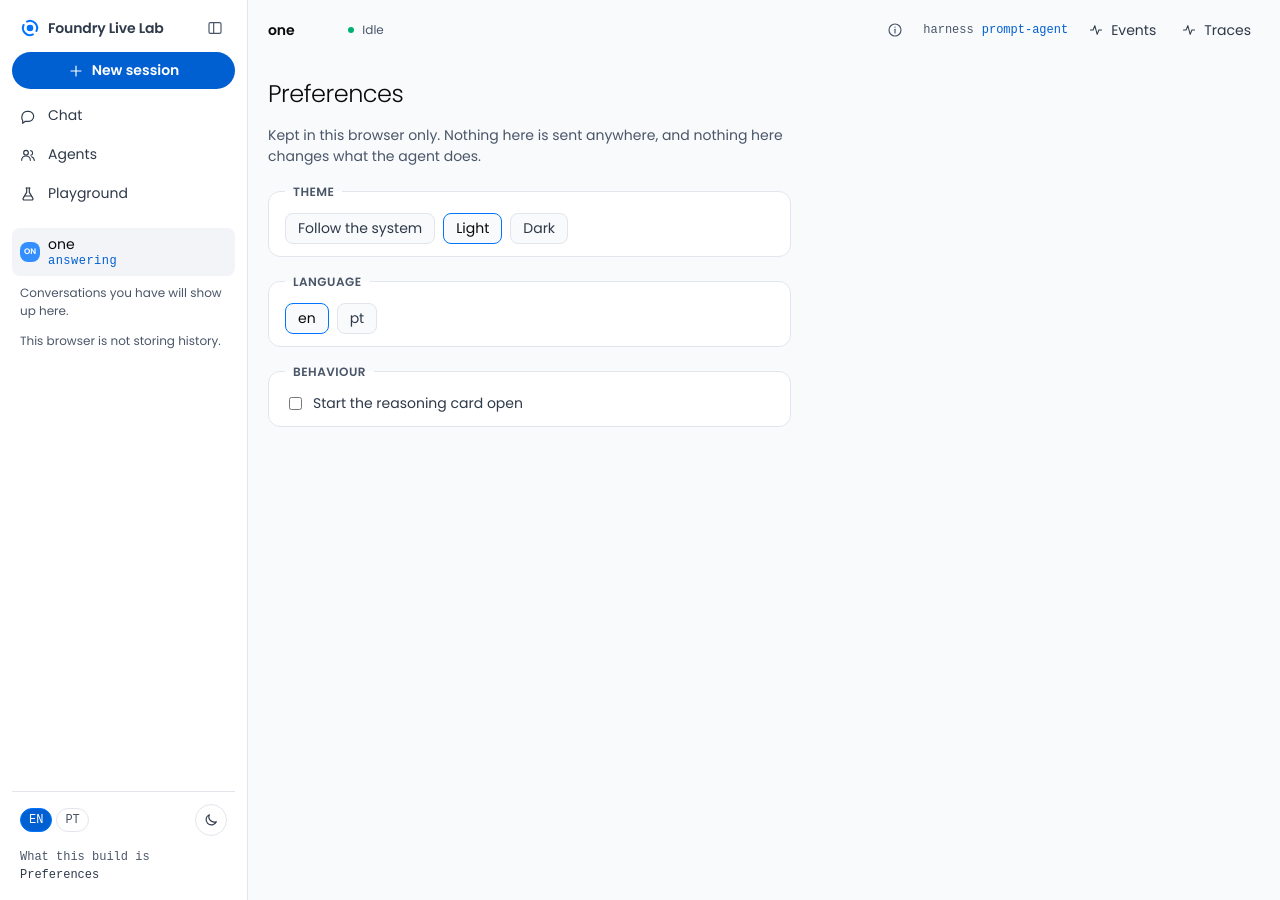
Test: preferences consumed by App (issue #29) › applies language and reasoning for this session when storage refuses writes
Click the button "pt" below "Language".
click(357, 318)  # box [337,303,377,334]
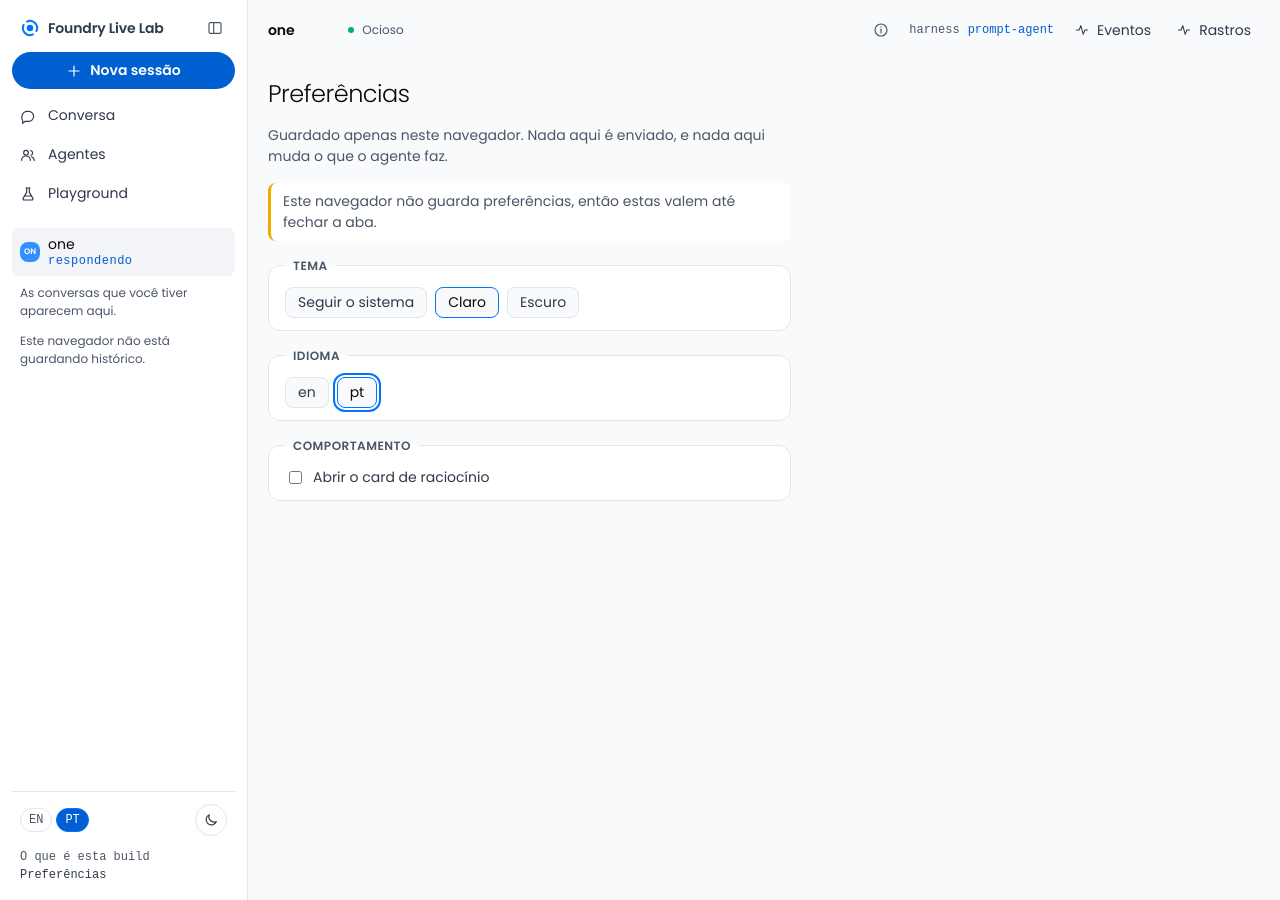
Click the checkbox labelled "Abrir o card de raciocínio".
click(296, 477)  # box [289,471,302,484]
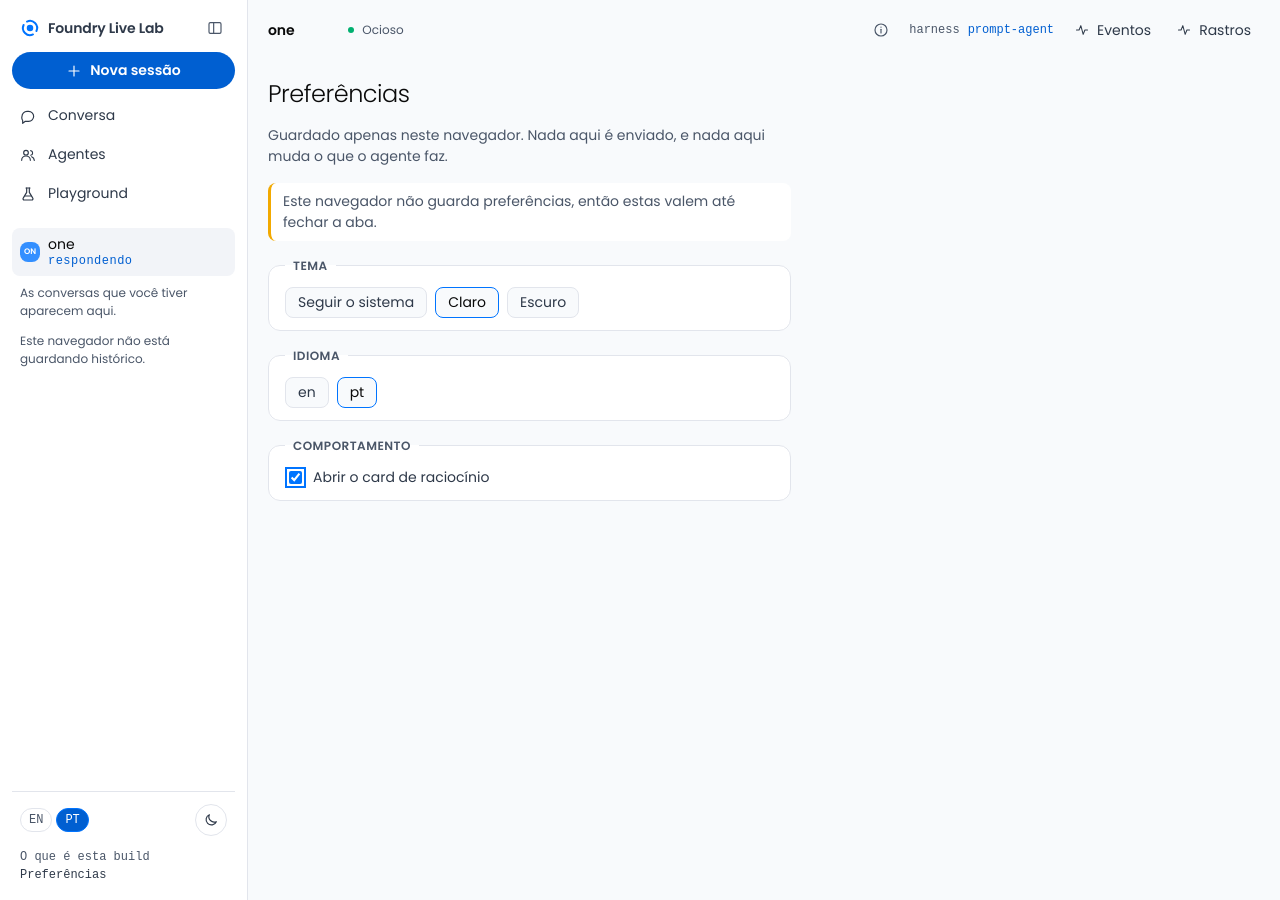
Click the button "Conversa".
click(124, 116)  # box [12,97,235,134]
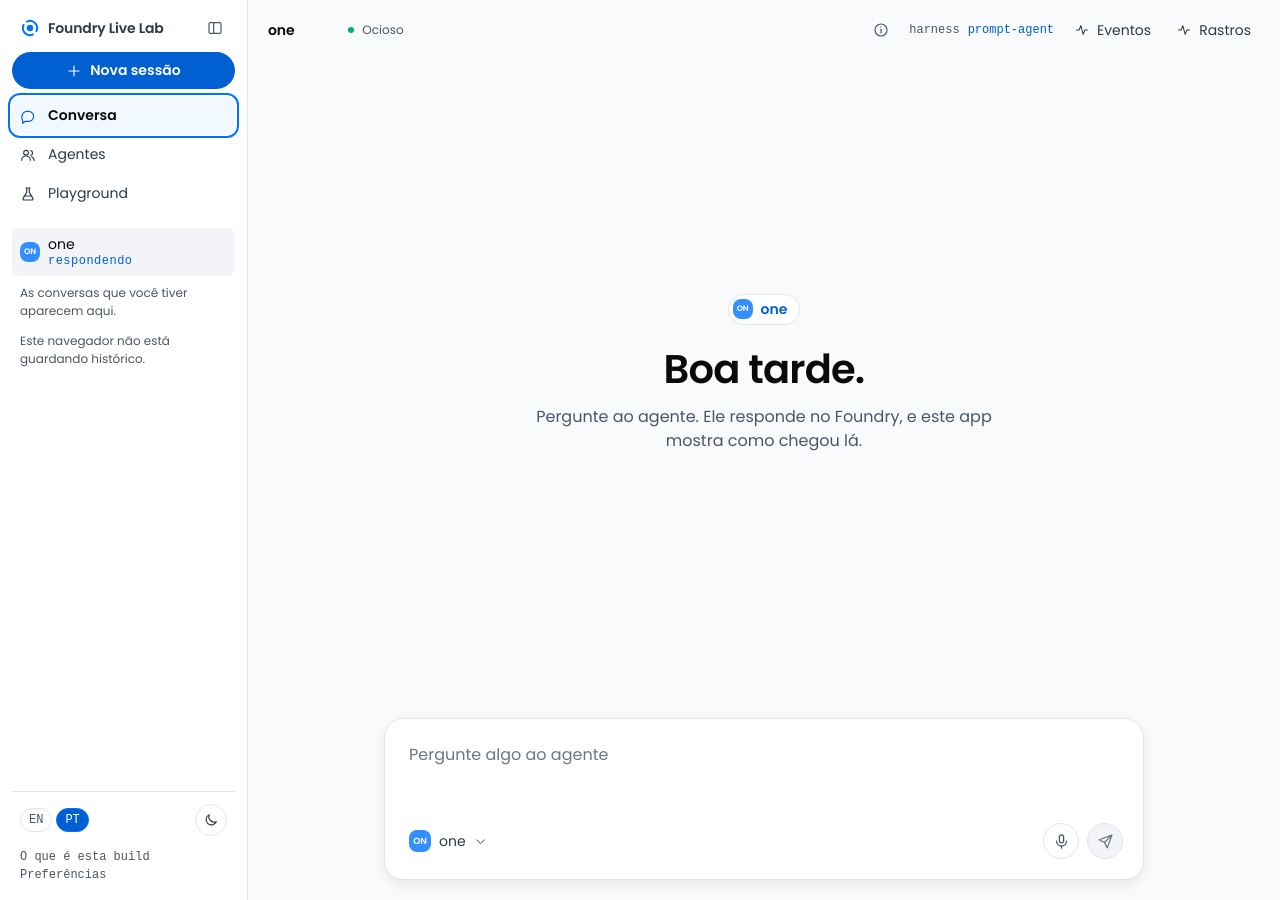
Type "what time is it" into the text box.
click(764, 775); type("what time is it")  # box [401,735,1127,815]
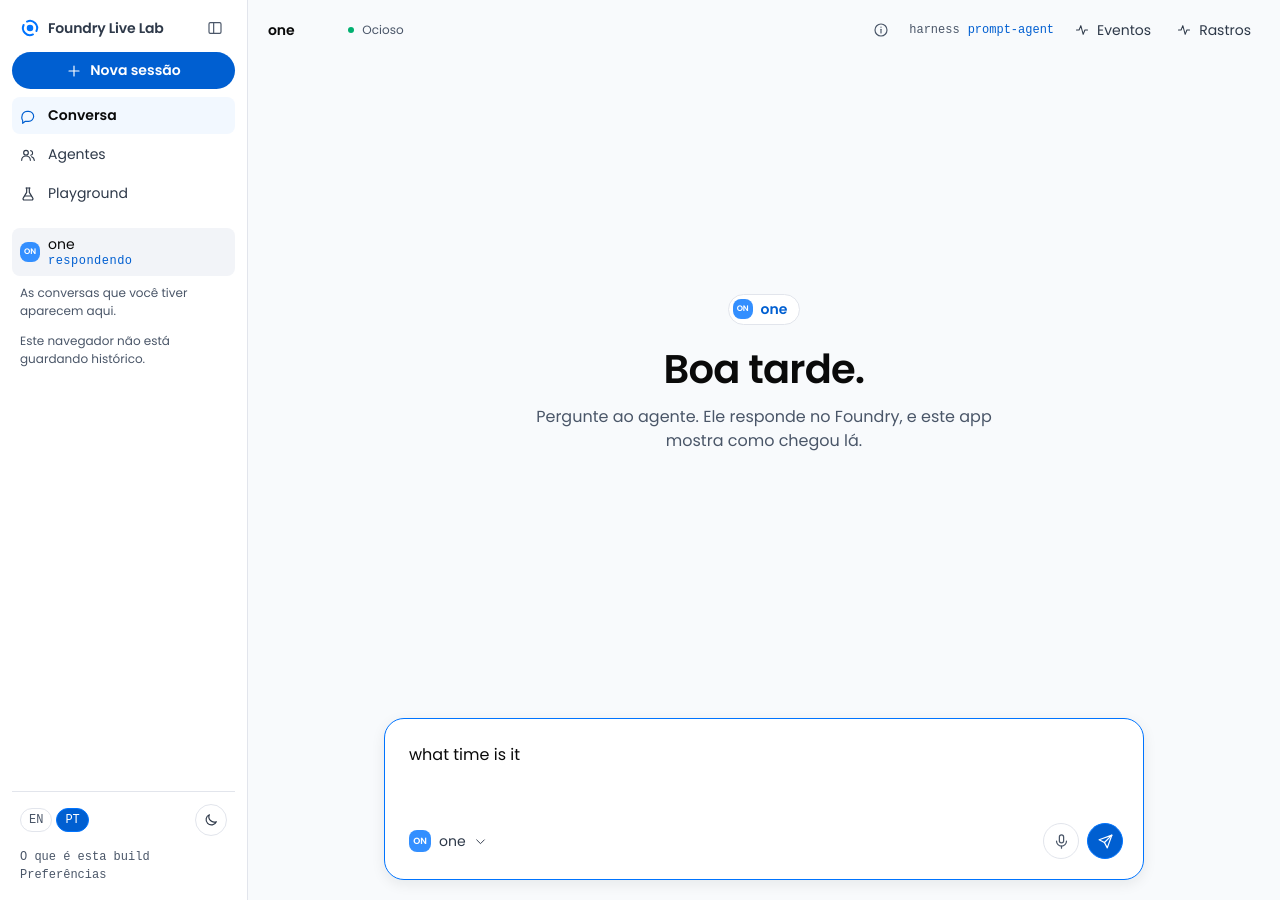
Click the button named "Enviar".
click(1105, 841)  # box [1087,823,1123,859]
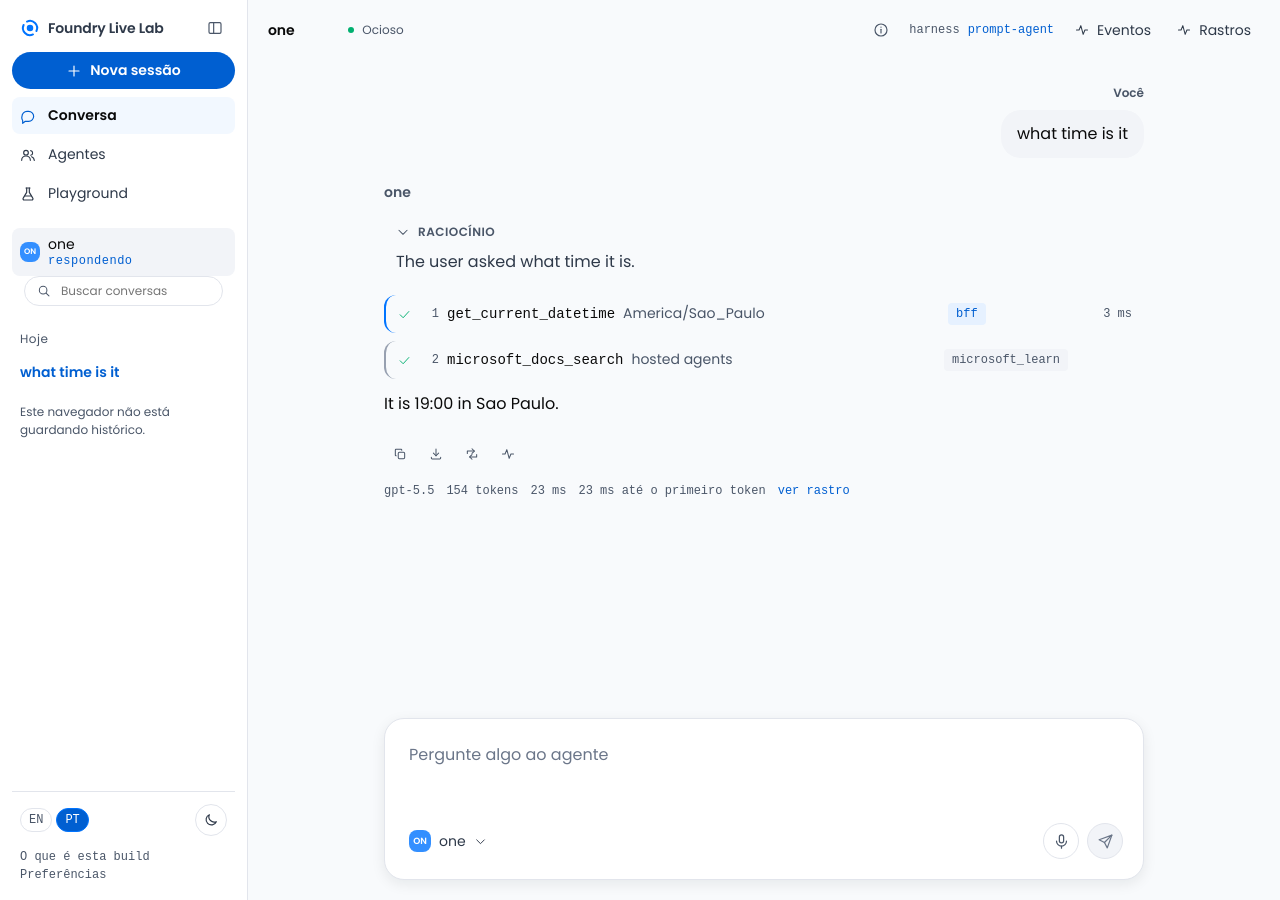
Result: the element with test id "answer" is shown at [384,392,559,415]
Result: the element with test id "reasoning-body" is shown at [396,250,635,273]
